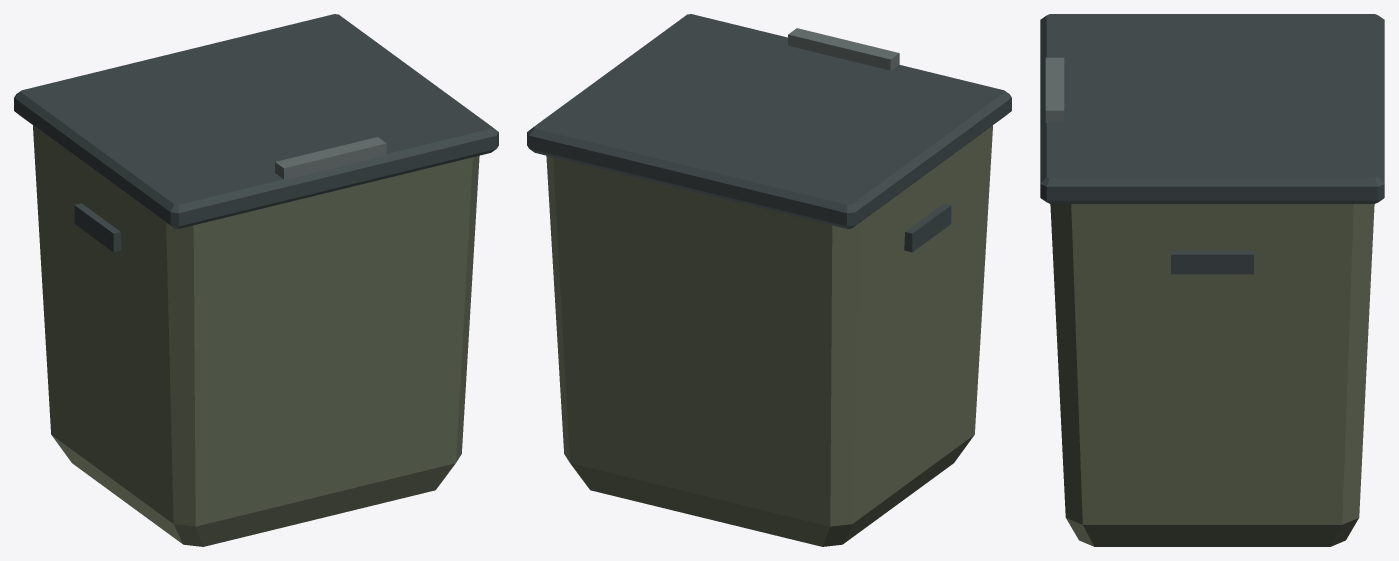
Rendered from Turner_OutdoorWasteBin.fbx.
3 views of the same model, side by side, from view 1: azimuth 30°, elevation 25°; view 2: azimuth 150°, elevation 25°; view 3: azimuth 270°, elevation 25° (orthographic). The views are drawn at different scales.
Visible parts, largest first — view 1: Turner_OutdoorWasteBin; view 2: Turner_OutdoorWasteBin; view 3: Turner_OutdoorWasteBin.
Boxes of the visible parts, x1,y1,x2,y2 form: Turner_OutdoorWasteBin: (14, 14, 498, 546); Turner_OutdoorWasteBin: (527, 14, 1011, 546); Turner_OutdoorWasteBin: (1040, 14, 1384, 546).
Bounding box in the file's own units: 0.752 × 0.819 × 0.645.
